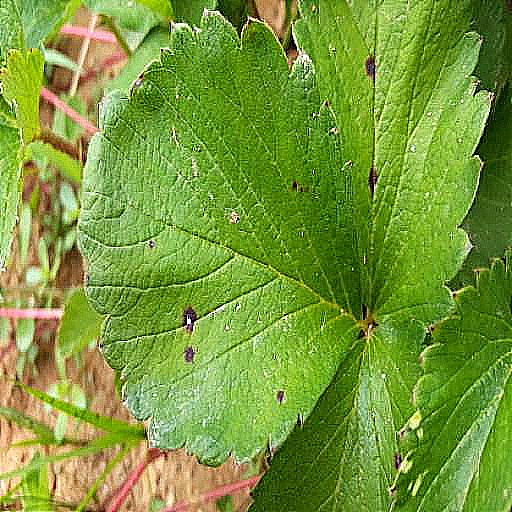Leaf Spot: (148, 6, 436, 469), (15, 0, 222, 328), (85, 309, 266, 511)
